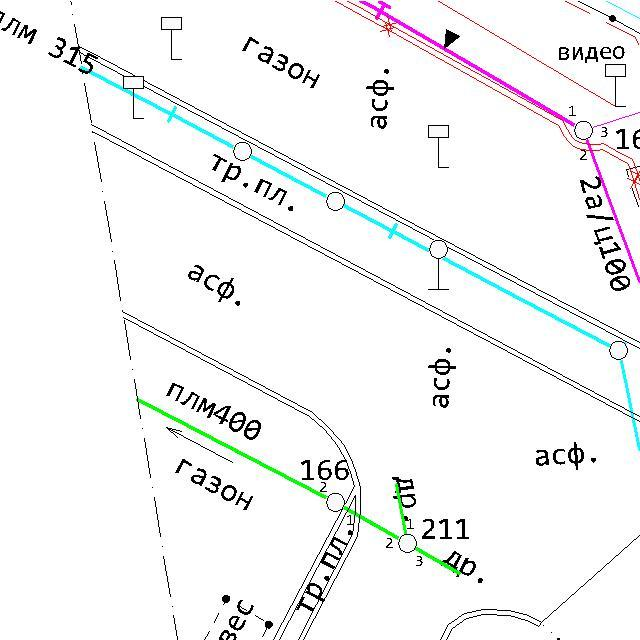asphalt: (185, 263, 243, 308), (532, 438, 598, 472), (425, 344, 458, 410), (364, 65, 396, 132)
mark: (441, 26, 463, 52)
sing: (426, 238, 452, 294), (425, 123, 454, 171), (602, 61, 630, 109), (159, 14, 186, 62), (121, 74, 148, 121)
well: (394, 530, 421, 556), (322, 188, 348, 214), (323, 490, 348, 515), (231, 140, 254, 164), (572, 118, 595, 142), (607, 338, 630, 362)
